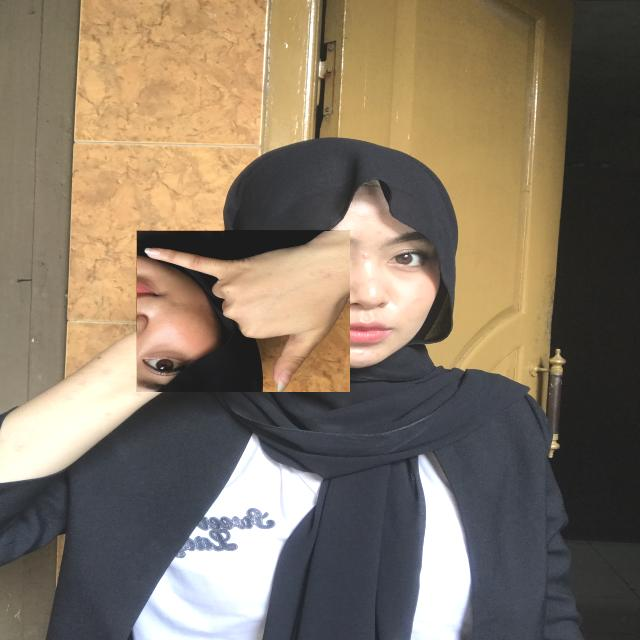telpon: (136, 230, 350, 392)
